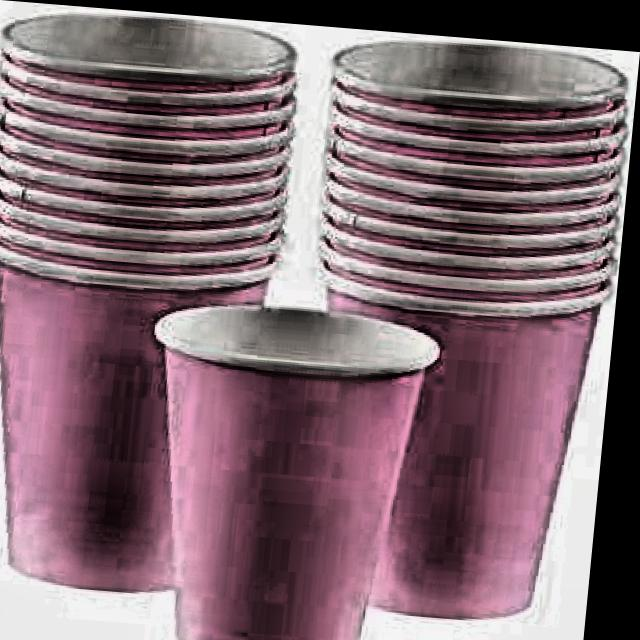Cup: (272, 20, 640, 624), (0, 0, 321, 613), (135, 281, 443, 640)
